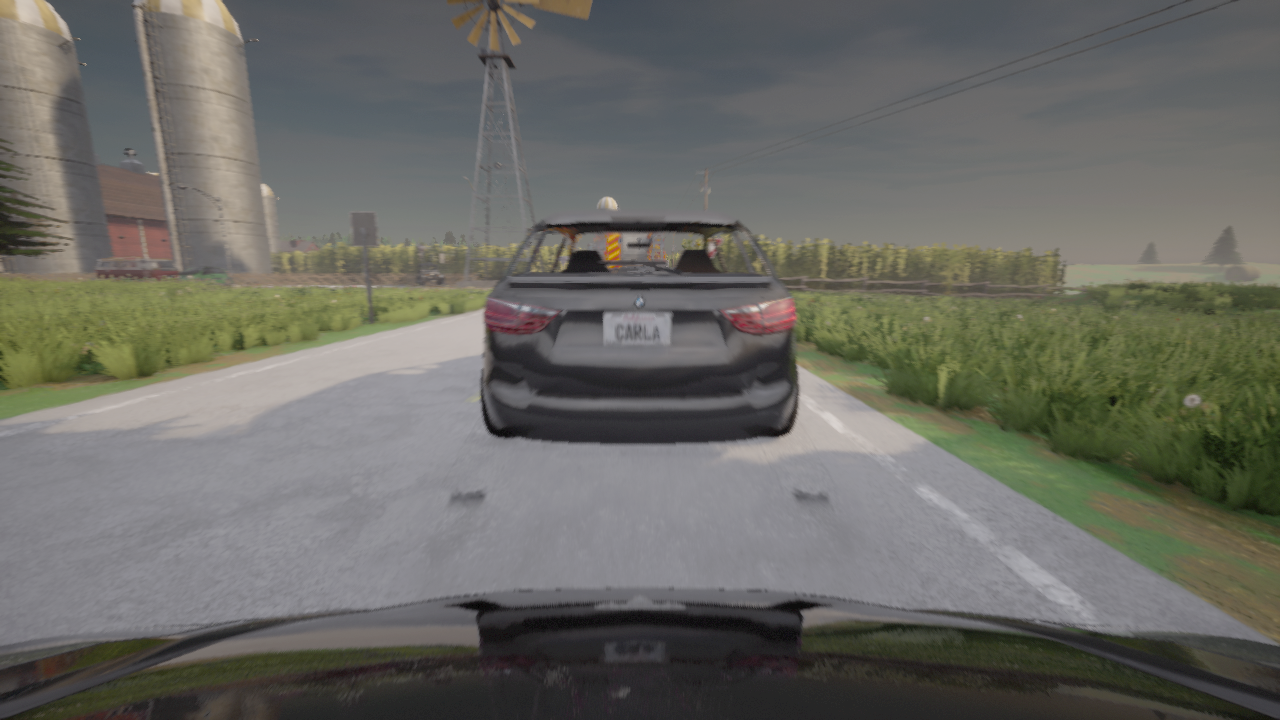cyclist: (0, 588, 1279, 719), (481, 210, 798, 443), (95, 259, 179, 282), (179, 266, 232, 285), (416, 264, 445, 286)
